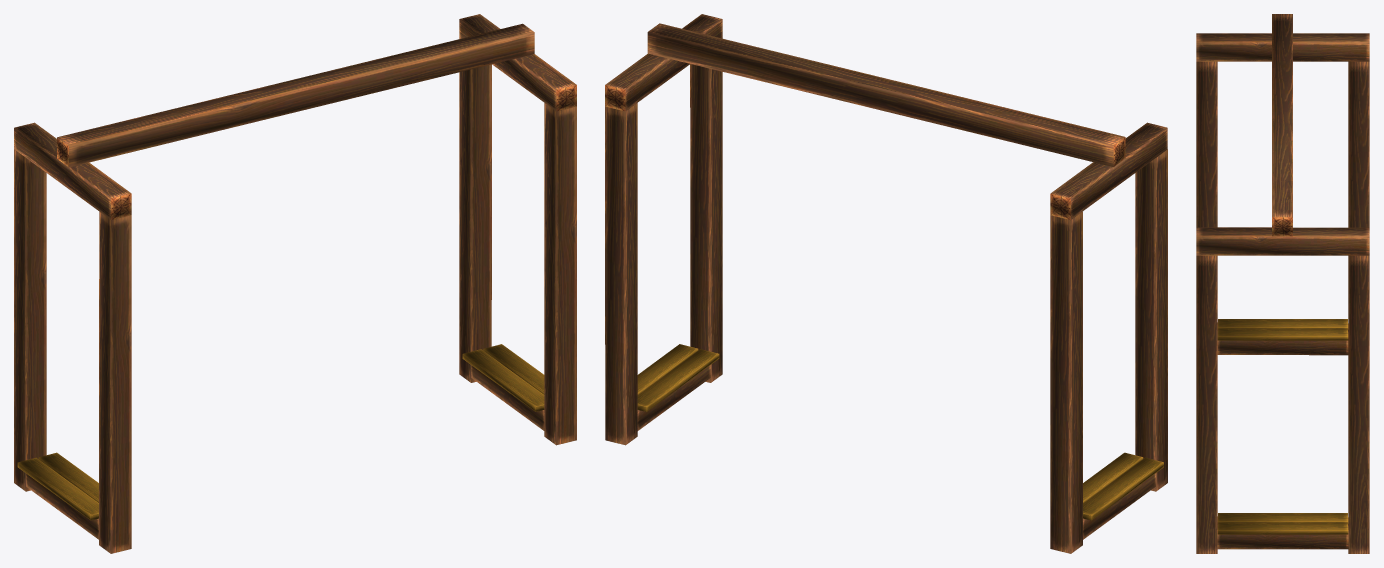
The model's file is INST_HTOWN_PLAYSWING.fbx.
The picture shows the model from 3 angles, left to right: view 1: azimuth 30°, elevation 25°; view 2: azimuth 150°, elevation 25°; view 3: azimuth 270°, elevation 25°; orthographic projection. The views are drawn at different scales.
Visible parts, largest first — view 1: INST_HTOWN_PLAYSWING; view 2: INST_HTOWN_PLAYSWING; view 3: INST_HTOWN_PLAYSWING.
Boxes of the visible parts, x1,y1,x2,y2 form: INST_HTOWN_PLAYSWING: (14,14,576,553); INST_HTOWN_PLAYSWING: (605,14,1167,553); INST_HTOWN_PLAYSWING: (1196,14,1369,553).
Bounding box in the file's own units: 72733 × 54055 × 25189.
2 materials, 2 textured.
